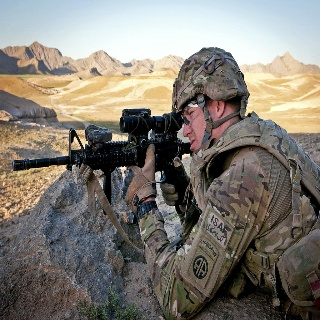rifle: (10, 107, 194, 208)
